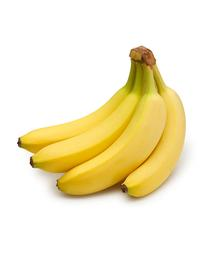banana: (17, 45, 186, 196)
